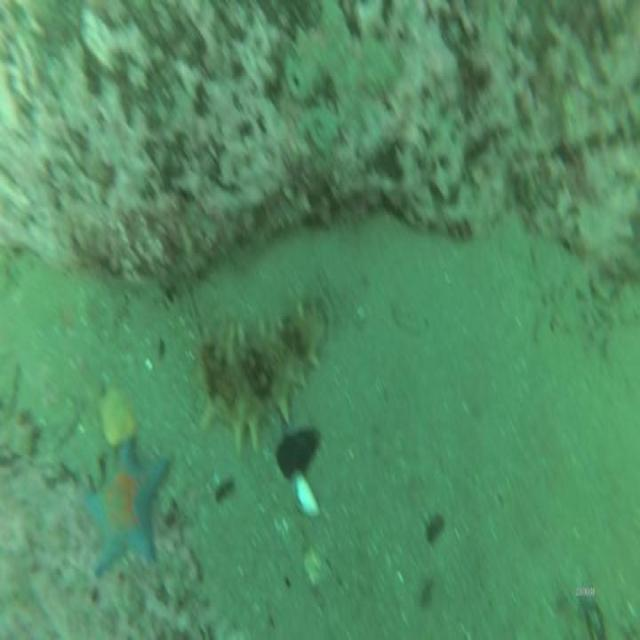holothurian: (191, 289, 333, 457)
starfish: (78, 430, 172, 578)
